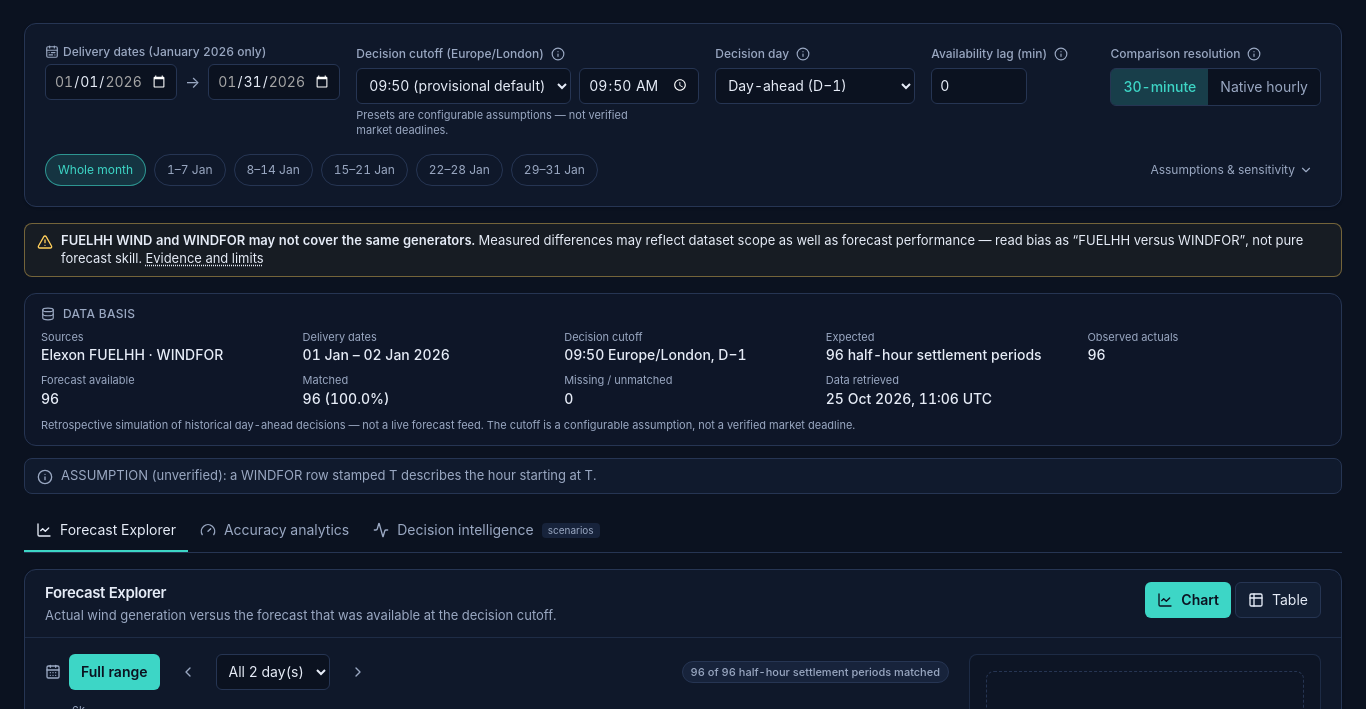
Test: interval inspection and revision exploration › lists every revision and marks post-cutoff vintages as not known at decision time
What coordinates should you click on to do the following:
click the button "Table"
I would click on:
 (1278, 600)
Its box is [1235,582,1321,618].
(page scrolled)
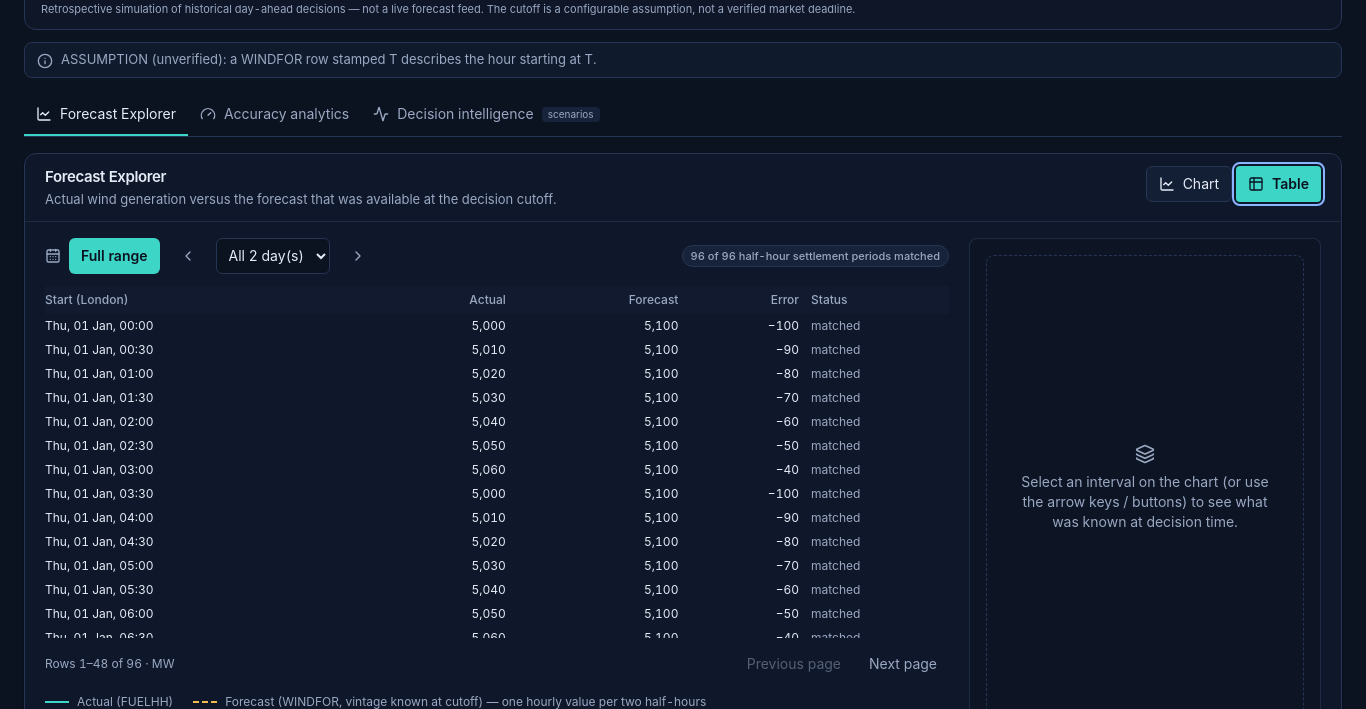
What coordinates should you click on to do the following:
click the button "Thu, 01 Jan, 00:00"
I would click on:
 (99, 326)
Its box is [45,318,154,334].
(page scrolled)
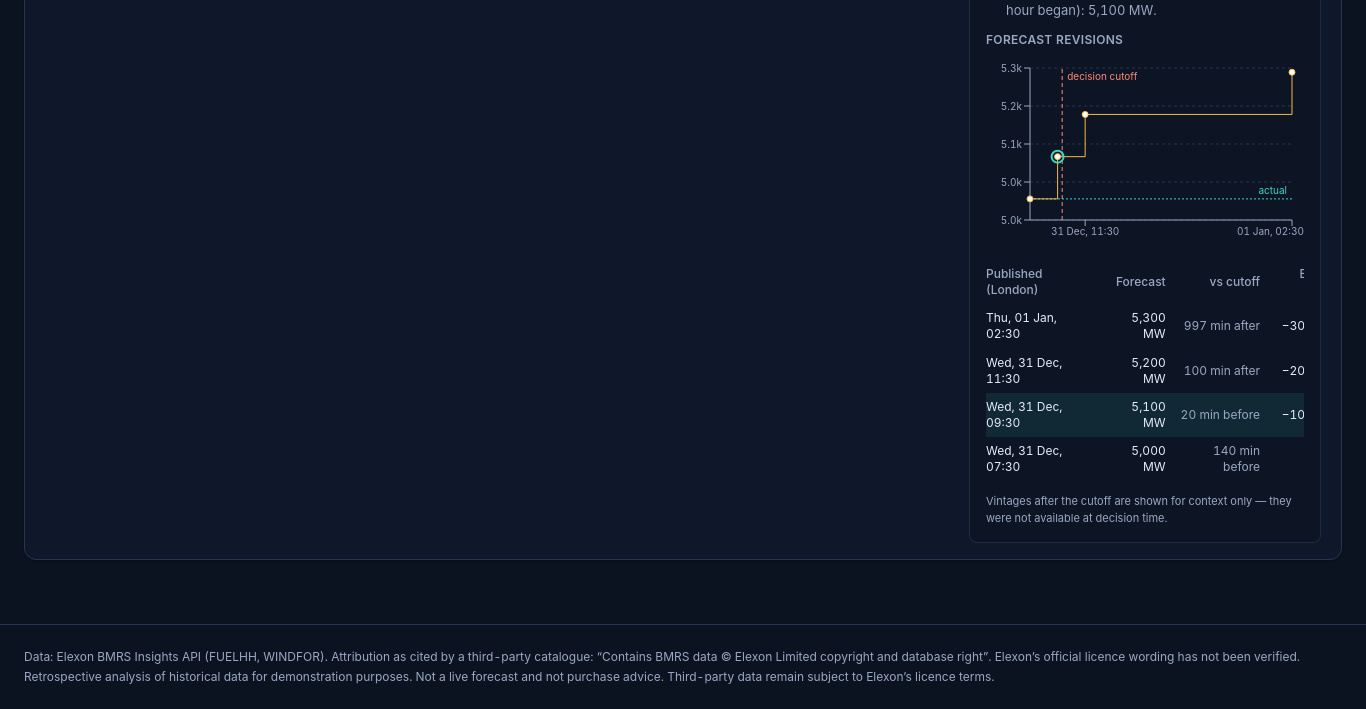
expect the text "shown for context only" is shown: met, box [986,494,1292,525]
